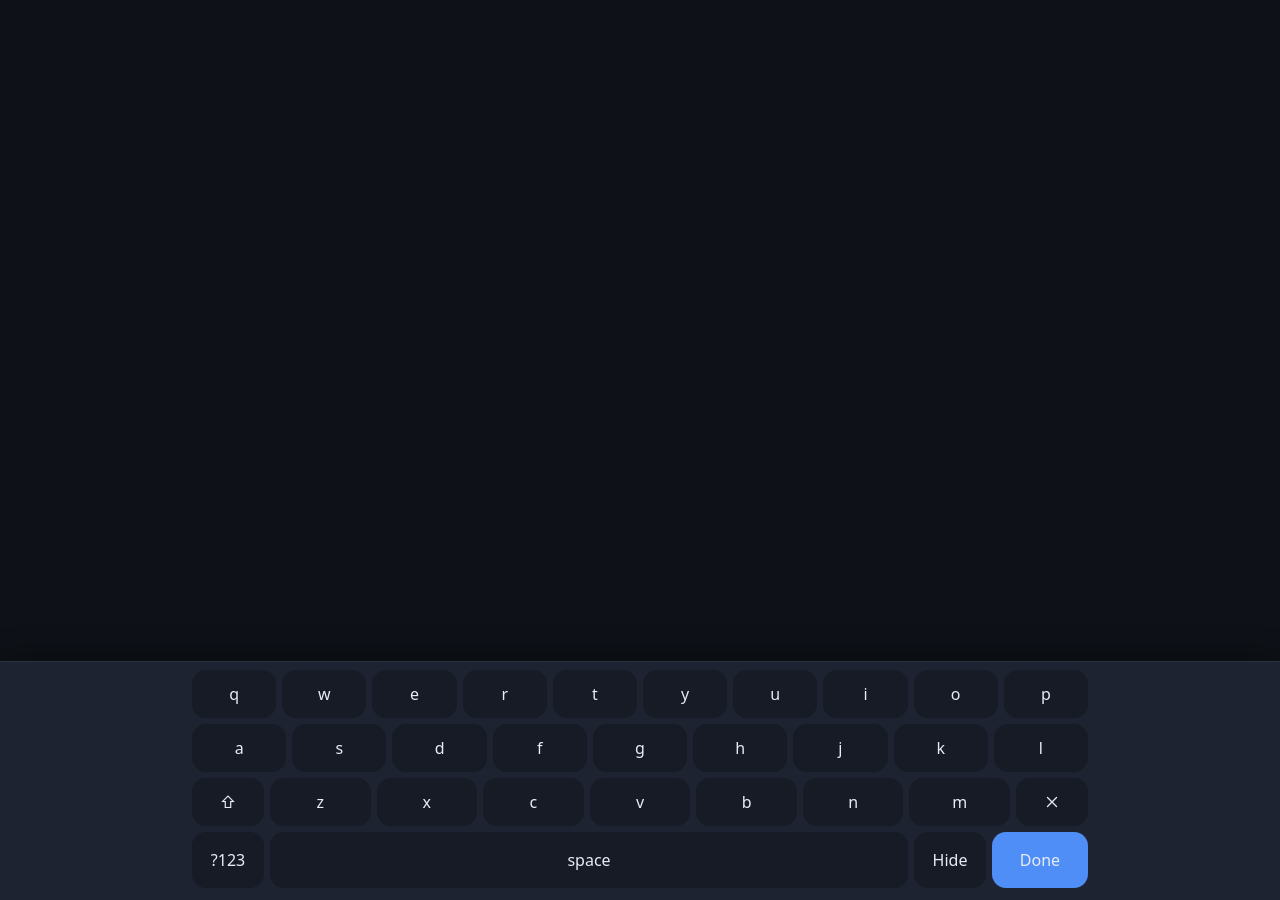
OnScreenKeyboard — symbols › swaps to digits and punctuation, and back
Press the mouse on the button "?123" at (228, 860), box x1=192 y1=832 x2=264 y2=888
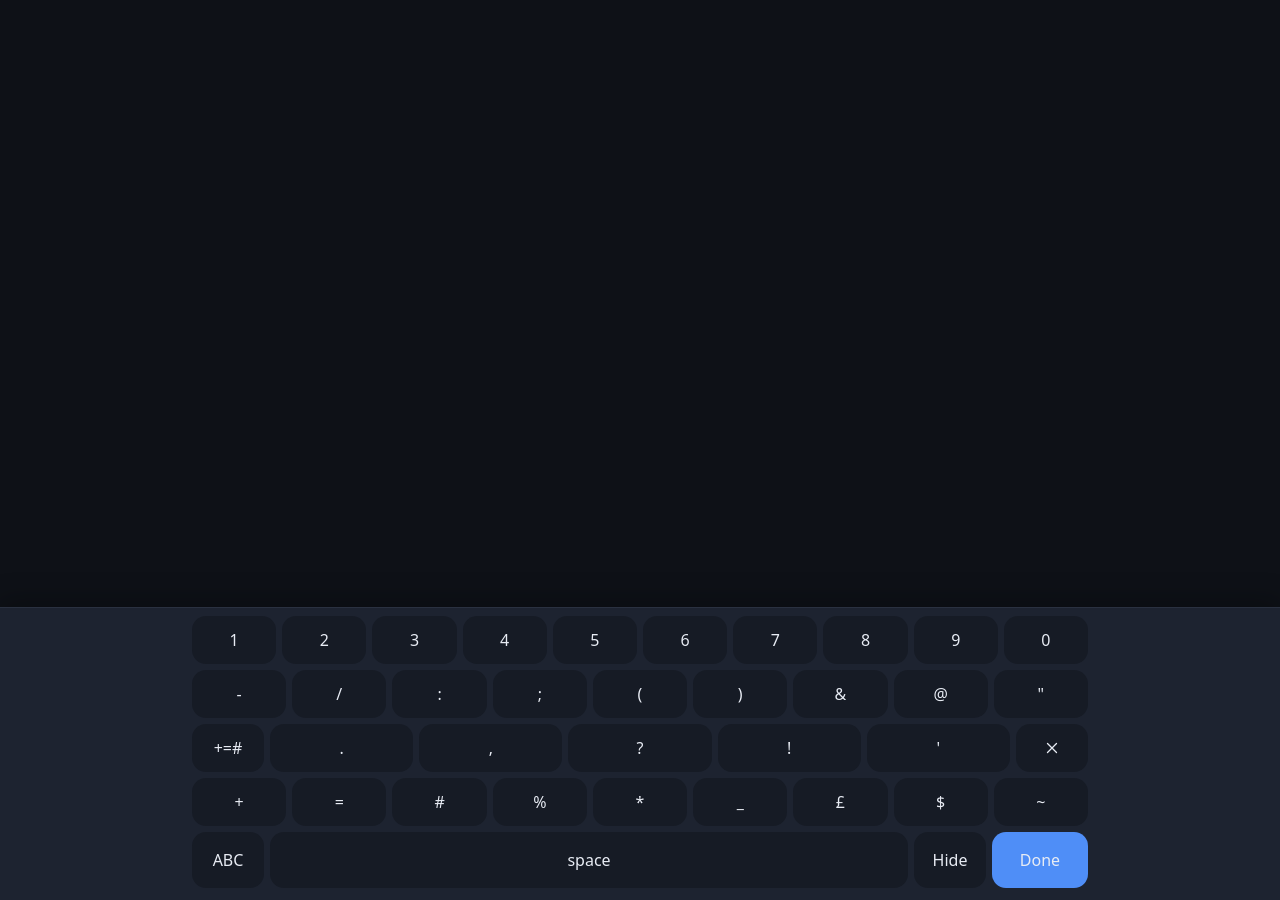
Expected: the button "1" is shown, x1=192 y1=616 x2=276 y2=664
Now the button "@" is shown, box x1=894 y1=670 x2=988 y2=718
Press the mouse on the button "ABC" at (228, 860), box x1=192 y1=832 x2=264 y2=888
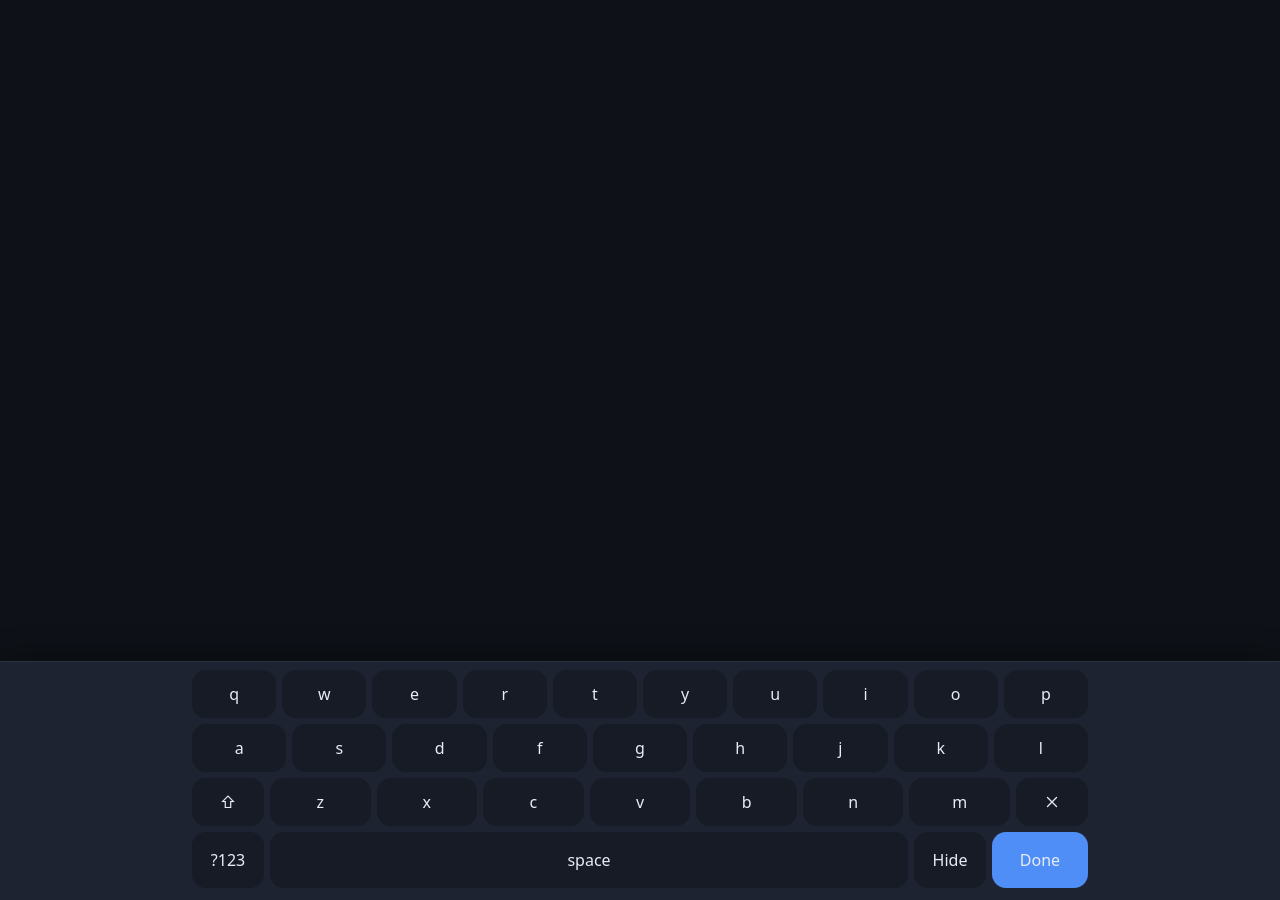
Now the button "q" is shown, box x1=192 y1=670 x2=276 y2=718
